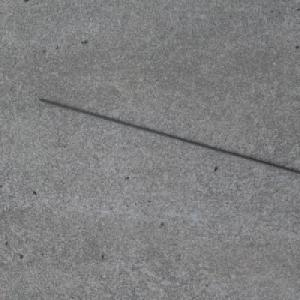LuggagePart: (38, 97, 300, 174)
